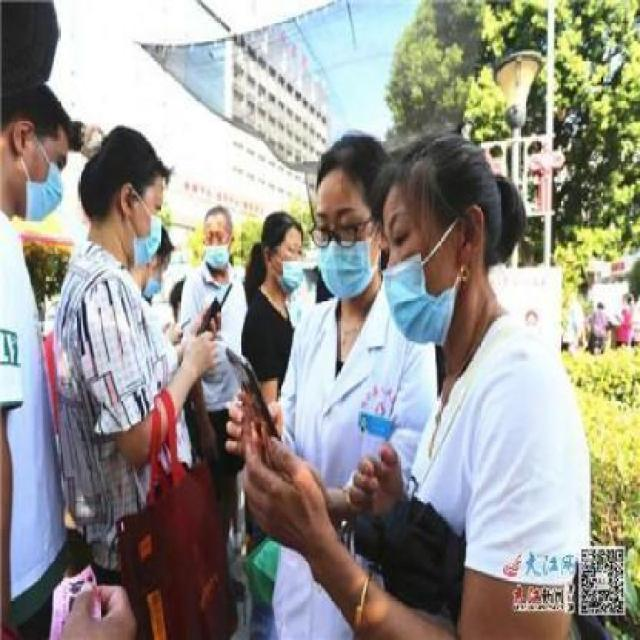face_mask: (382, 214, 444, 340), (314, 189, 377, 309), (8, 128, 70, 222), (123, 185, 168, 266), (268, 231, 306, 294), (200, 220, 229, 271)
glasses: (306, 216, 372, 253)
hand_noglove: (242, 437, 326, 552), (58, 572, 134, 638), (346, 445, 406, 523), (222, 396, 284, 456), (182, 330, 216, 372), (192, 302, 222, 332)
head_nohelmet: (377, 144, 506, 216), (295, 132, 383, 194), (6, 92, 85, 156), (100, 122, 175, 189), (251, 211, 303, 238), (194, 198, 231, 228)
person: (365, 143, 597, 640), (286, 112, 431, 640), (69, 117, 206, 581), (0, 80, 95, 640), (238, 202, 312, 418), (185, 188, 248, 409)
